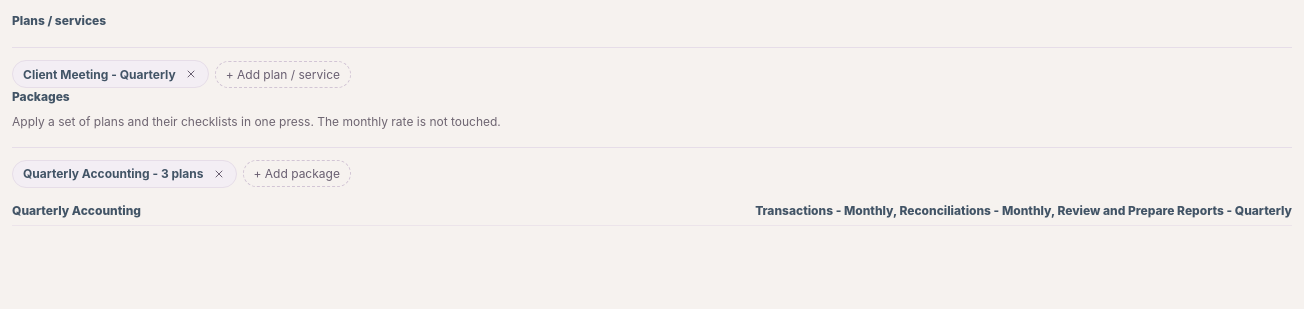
removing a chosen package › takes the package off, then asks about its plans and keeps them on "Keep the plans"
What coordinates should you click on to do the following:
click the button named "Remove Quarterly Accounting"
I would click on:
 (218, 174)
Its box is 210,165 -> 228,183.
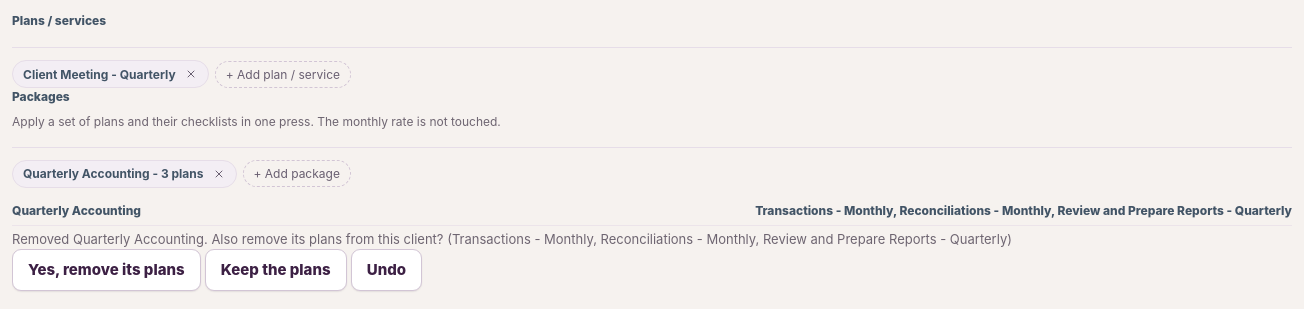
Check: the text "Also remove its plans from this client?" is shown, box 204,231 -> 452,247
What coordinates should you click on to do the following:
click the button "Keep the plans"
I would click on:
 (276, 270)
Its box is 205,249 -> 346,291.
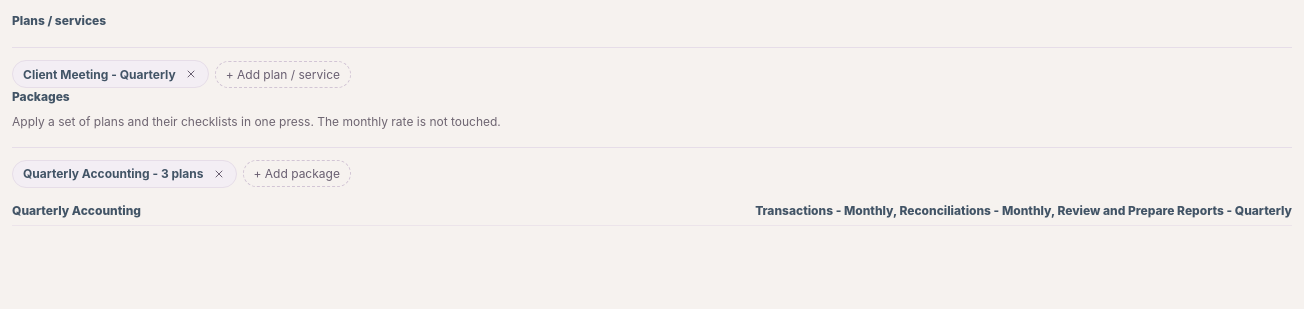
Check: the text "Also remove its plans from this client?" is gone
